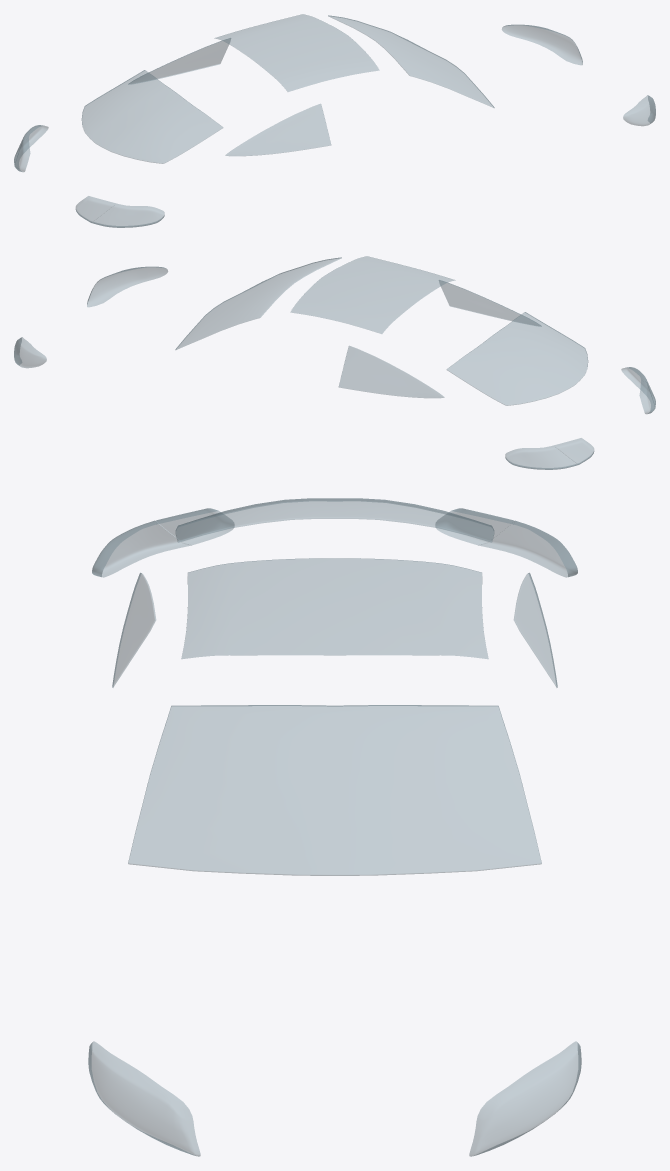
3 views of the same model, one above another, from view 1: azimuth 30°, elevation 25°; view 2: azimuth 150°, elevation 25°; view 3: azimuth 270°, elevation 25° (orthographic). The views are drawn at different scales.
Parts seen in each view (by area): view 1: SM_Glass_MercedesCCC_Ext1; view 2: SM_Glass_MercedesCCC_Ext1; view 3: SM_Glass_MercedesCCC_Ext1.
Boxes of the visible parts, x1=… form: SM_Glass_MercedesCCC_Ext1: x1=14, y1=14, x2=655, y2=227; SM_Glass_MercedesCCC_Ext1: x1=14, y1=256, x2=655, y2=469; SM_Glass_MercedesCCC_Ext1: x1=88, y1=498, x2=581, y2=1156.
Size of the model in its own units: 4.43 by 0.9089 by 1.66.
